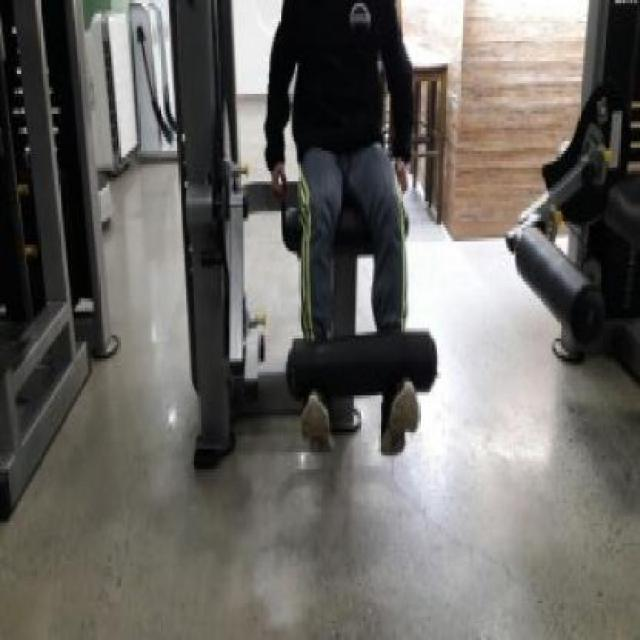leg extension: (157, 0, 452, 485)
